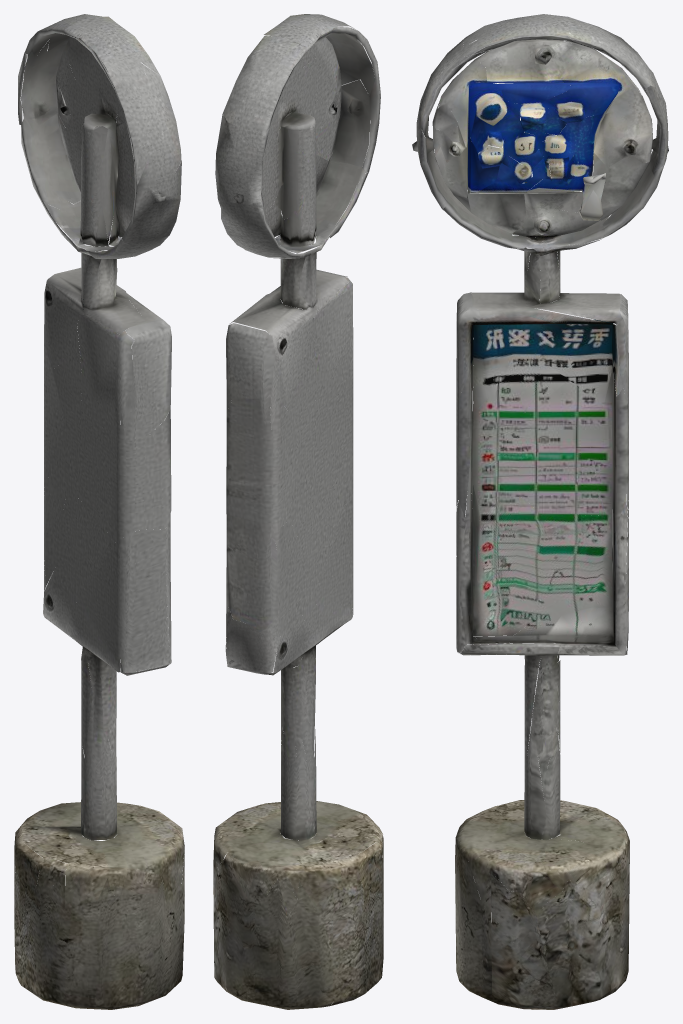
The model's file is bus_stop.glb.
3 renders of one model, left to right at view 1: azimuth 30°, elevation 25°; view 2: azimuth 150°, elevation 25°; view 3: azimuth 270°, elevation 25°, orthographic.
Visible parts, largest first — view 1: tripo_node_685bd7f0-b8ad-4ce2-80c6-1ebe443ab33f; view 2: tripo_node_685bd7f0-b8ad-4ce2-80c6-1ebe443ab33f; view 3: tripo_node_685bd7f0-b8ad-4ce2-80c6-1ebe443ab33f.
Part boxes in pixels (box(x1,y1,x2,y2)): tripo_node_685bd7f0-b8ad-4ce2-80c6-1ebe443ab33f: box(14, 14, 184, 1009); tripo_node_685bd7f0-b8ad-4ce2-80c6-1ebe443ab33f: box(213, 14, 383, 1009); tripo_node_685bd7f0-b8ad-4ce2-80c6-1ebe443ab33f: box(412, 14, 668, 1009).
Size of the model in its own units: 0.2888 by 1.8 by 0.4379.
1 material, 1 textured.
